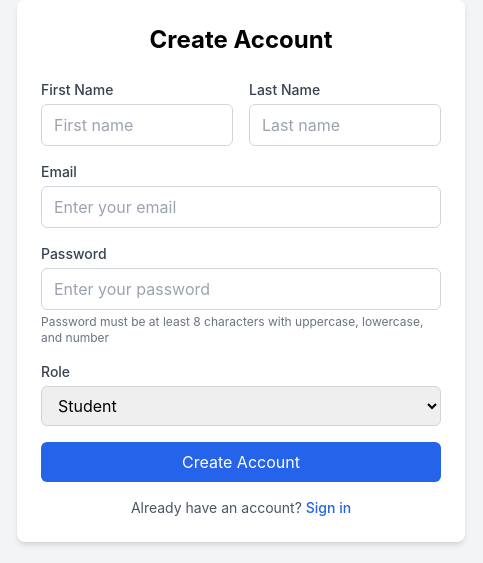
Test: RegisterForm › shows loading state during registration
Type "John" into the field labelled "First Name" at (137, 125), box [41,104,233,146]
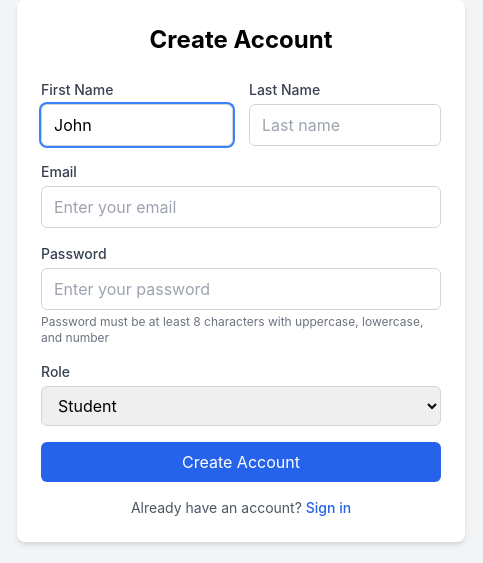
Type "Doe" into the field labelled "Last Name" at (345, 125), box [249,104,441,146]
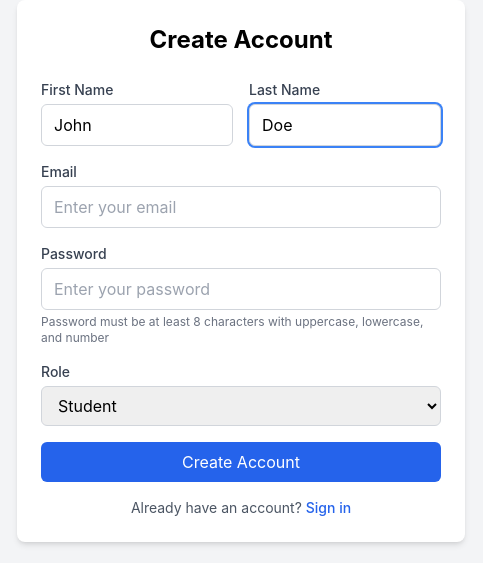
Type "john@example.com" into the field labelled "Email" at (241, 207), box [41,186,441,228]
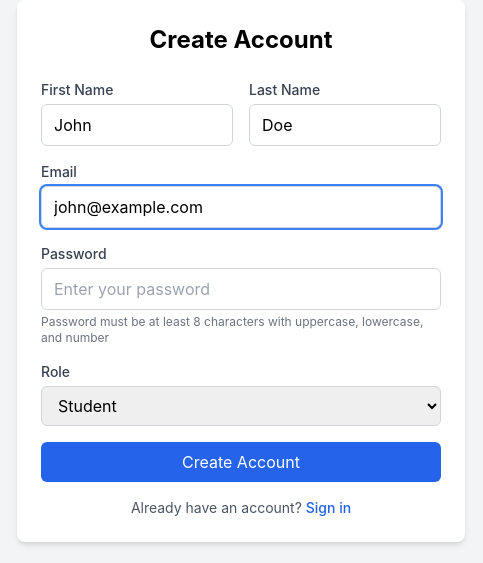
Type "Password123" into the password field labelled "Password" at (241, 289), box [41,268,441,310]
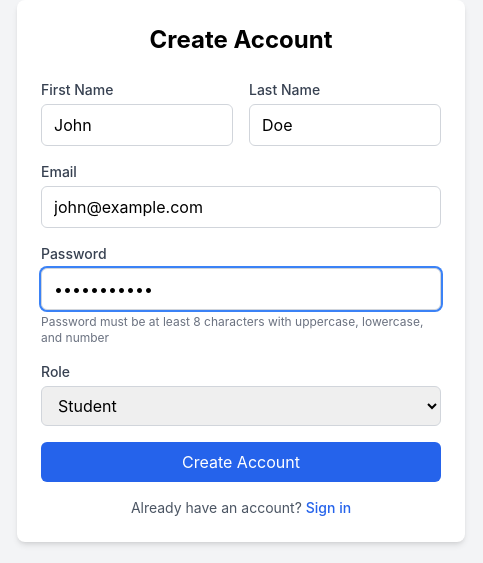
Click the button "Create Account" at (241, 462), box [41,442,441,482]
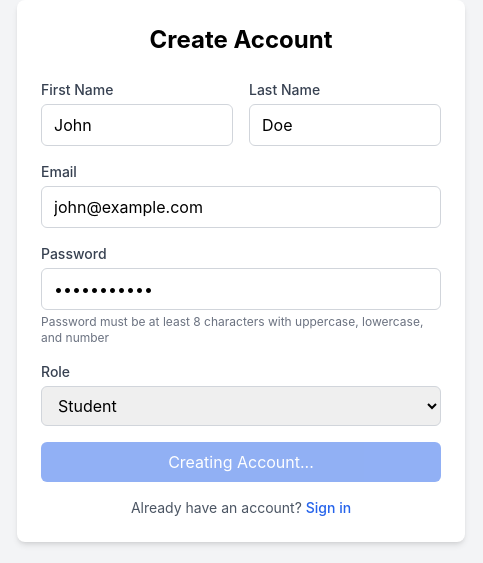
Check: the button "Creating Account..." is disabled, box [41,442,441,482]
